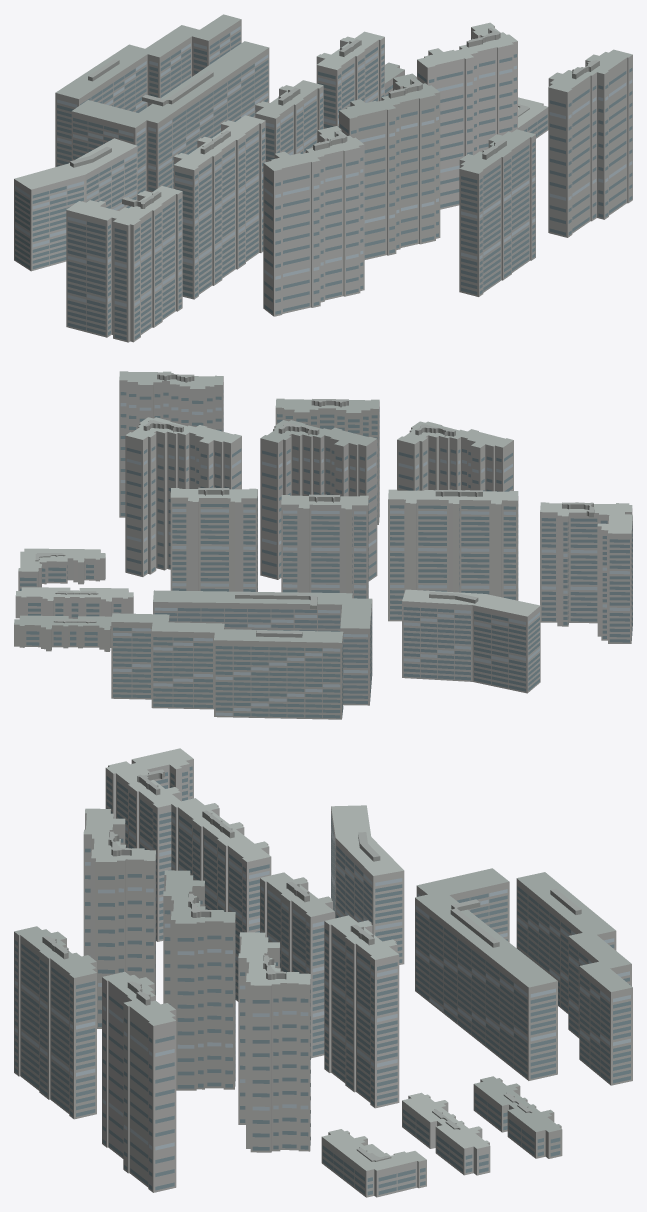
Rendered from apt-a10023991.glb.
The picture shows the model from 3 angles, top to bottom: view 1: azimuth 30°, elevation 25°; view 2: azimuth 150°, elevation 25°; view 3: azimuth 270°, elevation 25°; orthographic projection. The views are drawn at different scales.
Parts seen in each view (by area): view 1: apt-a10023991; view 2: apt-a10023991; view 3: apt-a10023991.
Part boxes in pixels (<box>): apt-a10023991: <box>14,14,632,342</box>; apt-a10023991: <box>14,371,632,719</box>; apt-a10023991: <box>14,748,632,1197</box>.
Size of the model in its own units: 290 by 74 by 241.
